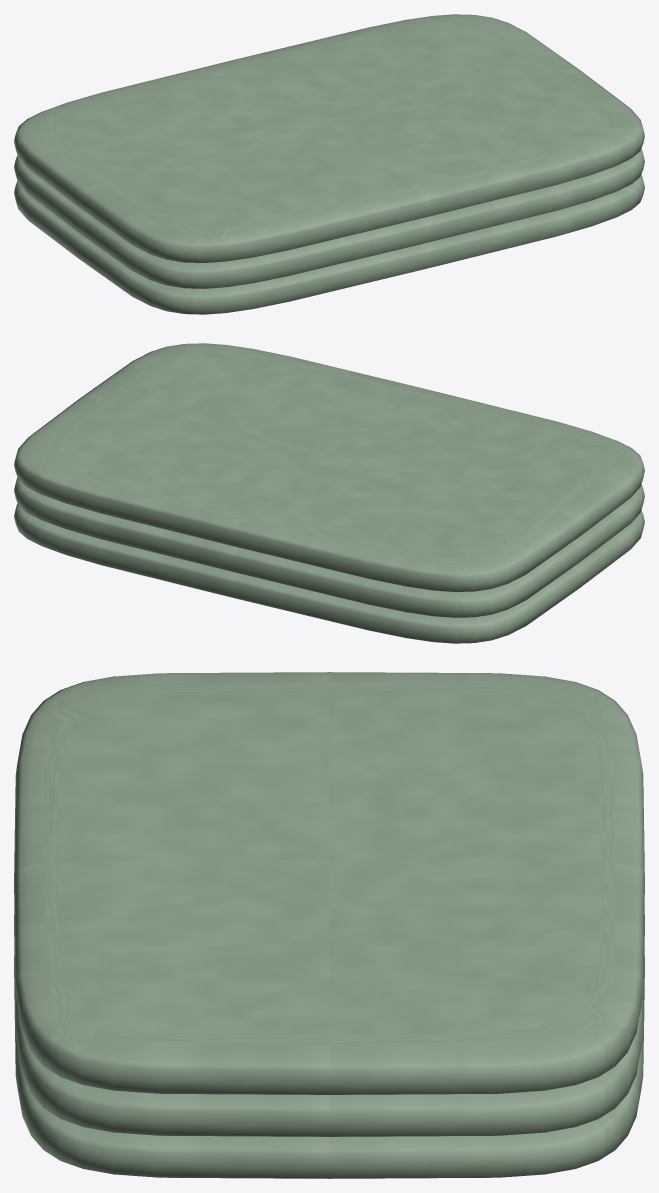
The picture shows the model from 3 angles, top to bottom: view 1: azimuth 30°, elevation 25°; view 2: azimuth 150°, elevation 25°; view 3: azimuth 270°, elevation 25°; orthographic projection. The views are drawn at different scales.
Visible parts, largest first — view 1: Bath towel, folded; view 2: Bath towel, folded; view 3: Bath towel, folded.
Boxes of the visible parts, box(x1,y1,x2,y2) form: Bath towel, folded: box(14, 14, 644, 314); Bath towel, folded: box(14, 343, 644, 643); Bath towel, folded: box(14, 672, 644, 1178).
Bounding box in the file's own units: 0.45 × 0.068 × 0.3.
Materials: 1 (1 with a texture image).
